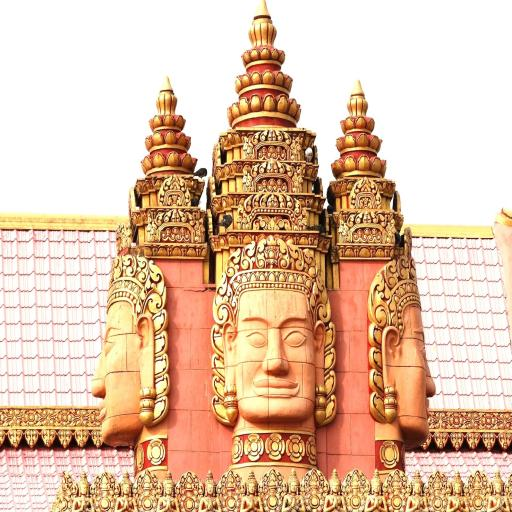hoa: (146, 437, 170, 470), (135, 442, 147, 473), (55, 408, 73, 426), (448, 411, 464, 429), (479, 413, 498, 428), (23, 409, 39, 426), (91, 408, 102, 424)
la: (252, 464, 290, 512), (126, 464, 162, 512), (297, 464, 333, 512), (341, 462, 374, 512), (419, 465, 454, 512), (380, 461, 412, 512), (213, 465, 245, 512), (174, 466, 206, 512), (90, 468, 120, 512), (464, 462, 490, 512), (53, 472, 79, 512), (449, 431, 466, 453), (22, 429, 41, 448), (463, 430, 480, 450), (6, 429, 24, 447), (57, 428, 73, 448), (39, 430, 56, 448), (72, 428, 88, 446), (420, 432, 432, 456), (433, 432, 449, 450), (497, 431, 511, 451), (89, 428, 104, 446), (482, 430, 494, 452), (0, 429, 5, 450)
than: (208, 241, 344, 477), (77, 230, 177, 454), (354, 256, 451, 485), (238, 465, 265, 512), (155, 468, 183, 512), (363, 468, 390, 512), (111, 470, 139, 512), (485, 468, 511, 512), (444, 468, 469, 512), (402, 468, 428, 510), (282, 467, 306, 512), (199, 468, 222, 512), (72, 470, 96, 512), (322, 466, 344, 511)
